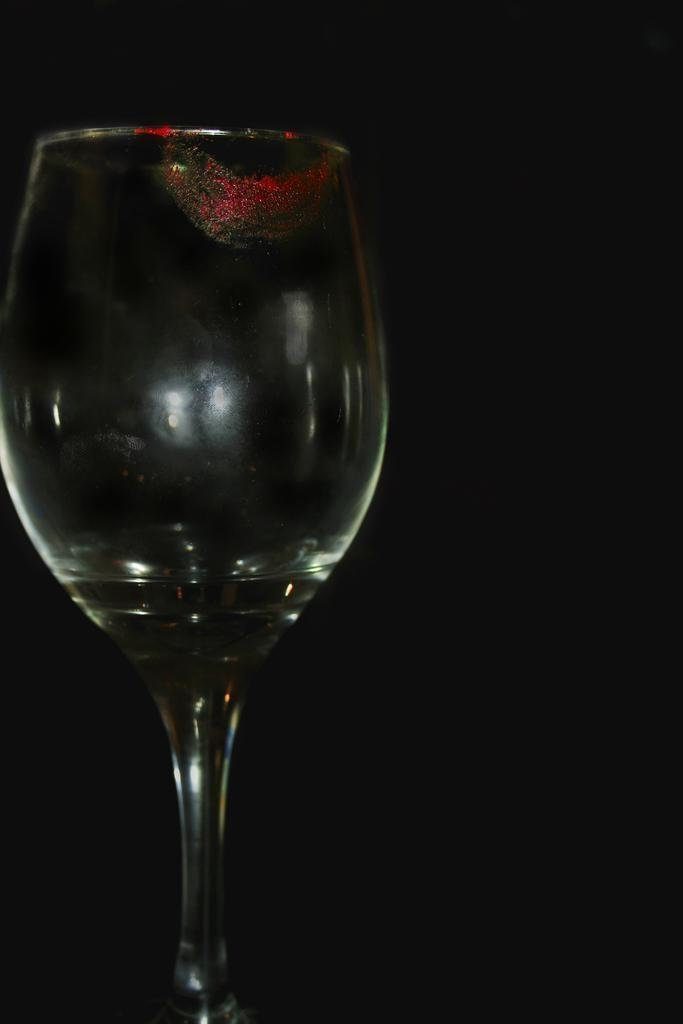glass-wine: (0, 127, 388, 1024)
